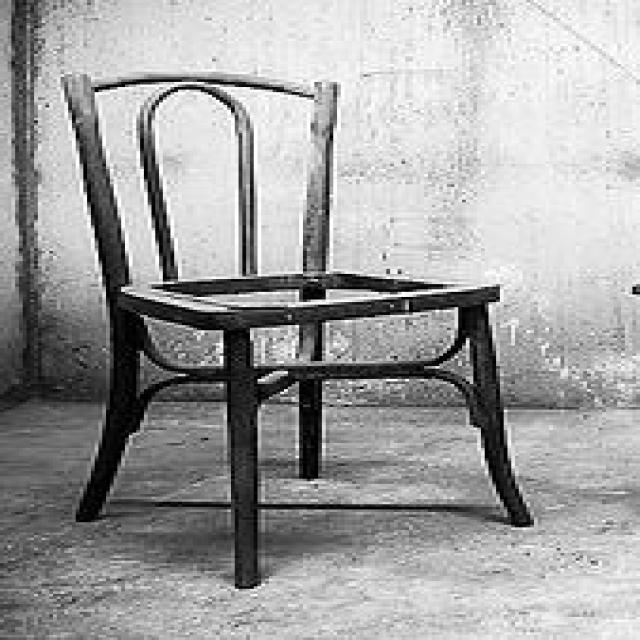chair: (55, 64, 537, 593)
